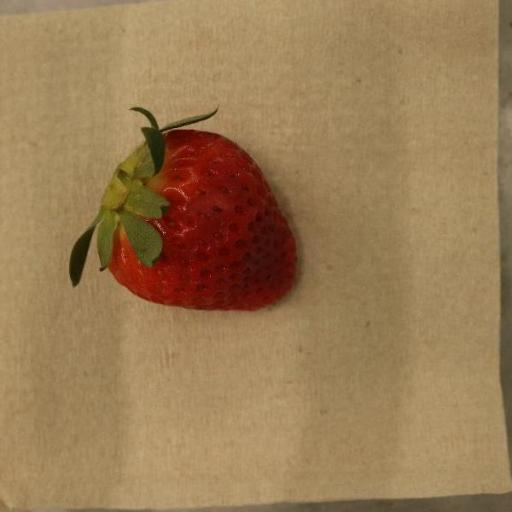Strawberry: (69, 107, 297, 312)
